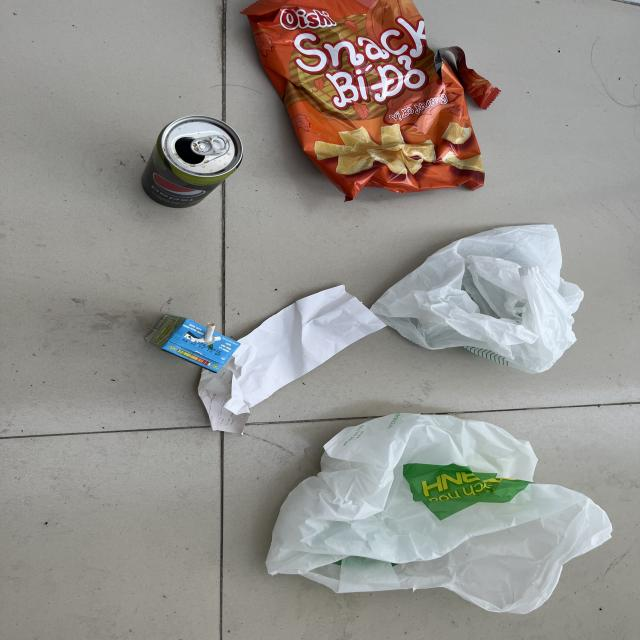bag: (265, 413, 613, 615), (368, 224, 584, 374)
can: (141, 115, 244, 208)
milk box: (143, 314, 241, 373)
paper: (197, 283, 389, 435)
snack package: (238, 0, 502, 202)
